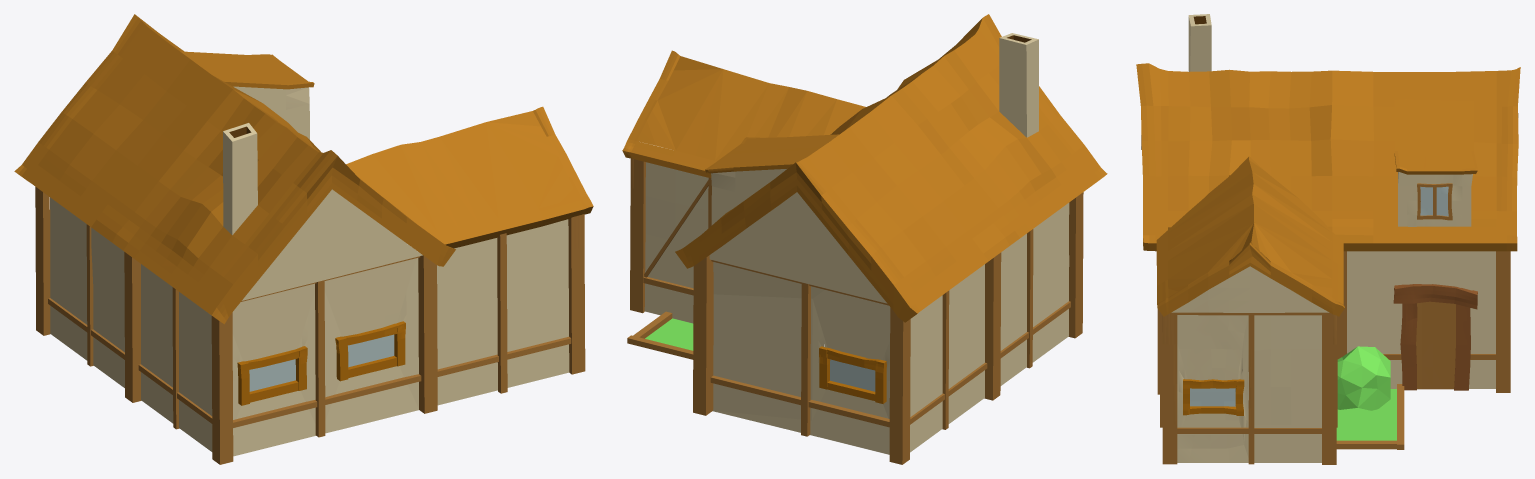
File: house.gltf
The picture shows the model from 3 angles, left to right: view 1: azimuth 30°, elevation 25°; view 2: azimuth 150°, elevation 25°; view 3: azimuth 270°, elevation 25°; orthographic projection. The views are drawn at different scales.
Parts seen in each view (by area): view 1: House; view 2: House; view 3: House.
Boxes of the visible parts, x1,y1,x2,y2 form: House: (14,14,593,464); House: (622,14,1107,464); House: (1136,14,1520,464).
Size of the model in its own units: 5.72 by 4.3 by 5.06.
Materials: 1 (1 with a texture image).
